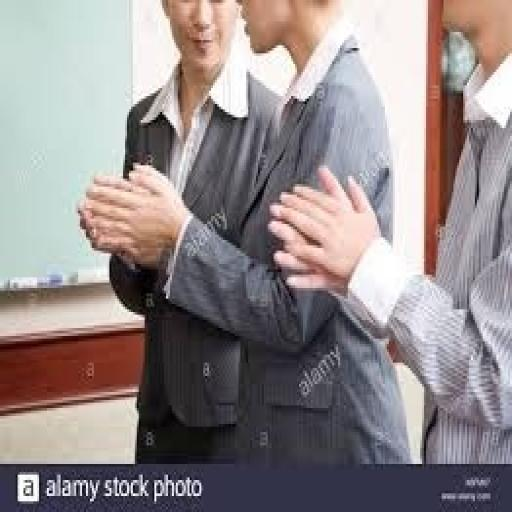clapping: (82, 0, 412, 467), (266, 0, 510, 464)
